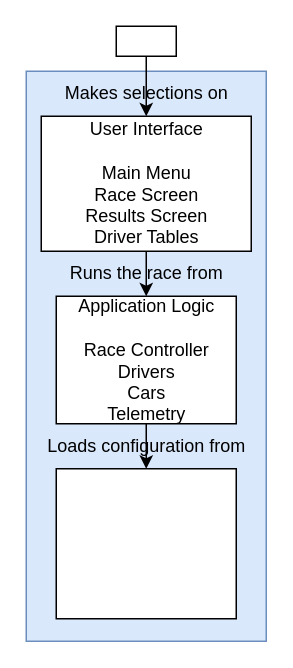
Some shapes in this 293 by 668 pixel diagram are drawn without their labels. Here are the shapes that lost their labels. From the top down, the centre of each, then its label:
the point at 145,40: User
the point at 145,543: Data Pers istence JSON Tracks Accessibility Settings
